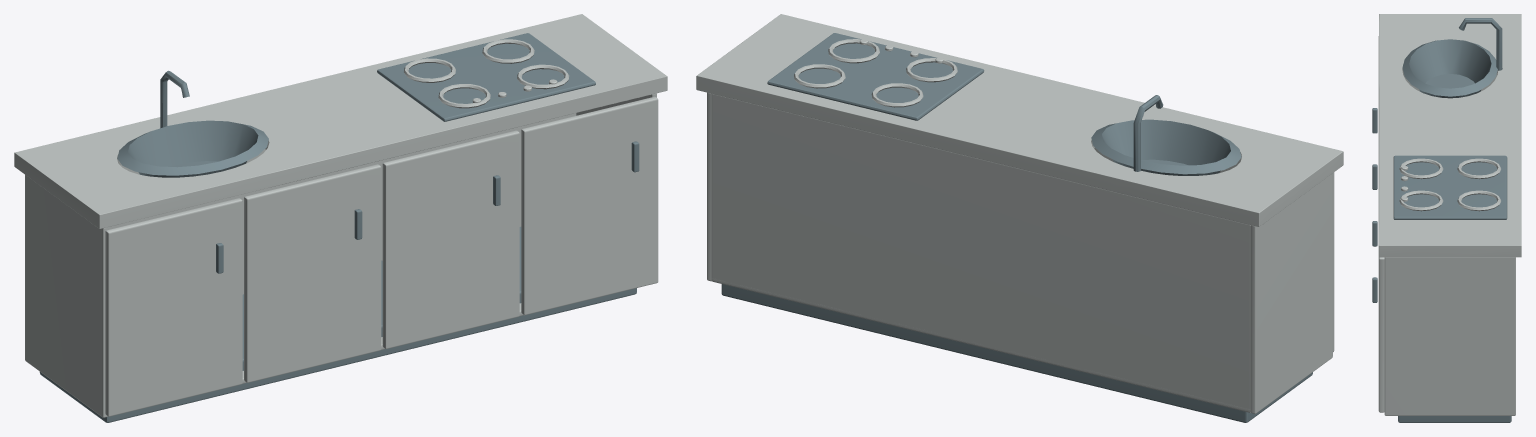
Rendered from kitchen-run.glb.
The picture shows the model from 3 angles, left to right: view 1: azimuth 30°, elevation 25°; view 2: azimuth 150°, elevation 25°; view 3: azimuth 270°, elevation 25°; orthographic projection. The views are drawn at different scales.
Visible parts, largest first — view 1: worktop, base_cabinet_door_0, base_cabinet_door_2, base_cabinet_door_3, base_cabinet_door_1, base_cabinet_side, hob, kitchen_sink_bowl, recessed_plinth, base_cabinet_rear, sink_tap; view 2: base_cabinet_rear, worktop, base_cabinet_side, hob, recessed_plinth, kitchen_sink_bowl, base_cabinet_bottom, base_cabinet_side.001, sink_tap; view 3: worktop, base_cabinet_side.001, hob, kitchen_sink_bowl, base_cabinet_door_3, recessed_plinth, sink_tap, hob_burner, hob_burner.002, hob_burner.001, hob_burner.003.
Boxes of the visible parts, x1,y1,x2,y2 form: worktop: (14, 14, 667, 228); base_cabinet_door_0: (105, 198, 242, 416); base_cabinet_door_2: (382, 130, 519, 348); base_cabinet_door_3: (521, 96, 658, 315); base_cabinet_door_1: (244, 164, 381, 382); base_cabinet_side: (25, 175, 107, 417); hob: (377, 33, 595, 121); kitchen_sink_bowl: (117, 120, 268, 177); recessed_plinth: (39, 227, 636, 422); base_cabinet_rear: (108, 113, 576, 294); sink_tap: (160, 70, 189, 128); base_cabinet_rear: (711, 94, 1250, 412); worktop: (696, 14, 1343, 226); base_cabinet_side: (1250, 173, 1332, 413); hob: (767, 33, 984, 120); recessed_plinth: (721, 284, 1312, 422); kitchen_sink_bowl: (1091, 119, 1241, 175); base_cabinet_bottom: (711, 278, 1250, 412); base_cabinet_side.001: (707, 92, 711, 281); sink_tap: (1133, 95, 1163, 171); worktop: (1379, 14, 1521, 257); base_cabinet_side.001: (1384, 257, 1515, 415); hob: (1393, 155, 1507, 219); kitchen_sink_bowl: (1402, 39, 1497, 98); base_cabinet_door_3: (1378, 206, 1384, 412); recessed_plinth: (1398, 416, 1511, 422); sink_tap: (1459, 18, 1502, 70); hob_burner: (1457, 158, 1500, 179); hob_burner.002: (1457, 190, 1500, 211); hob_burner.001: (1399, 158, 1443, 179); hob_burner.003: (1399, 190, 1443, 211).
Size of the model in its own units: 2.46 by 1.17 by 0.67.
